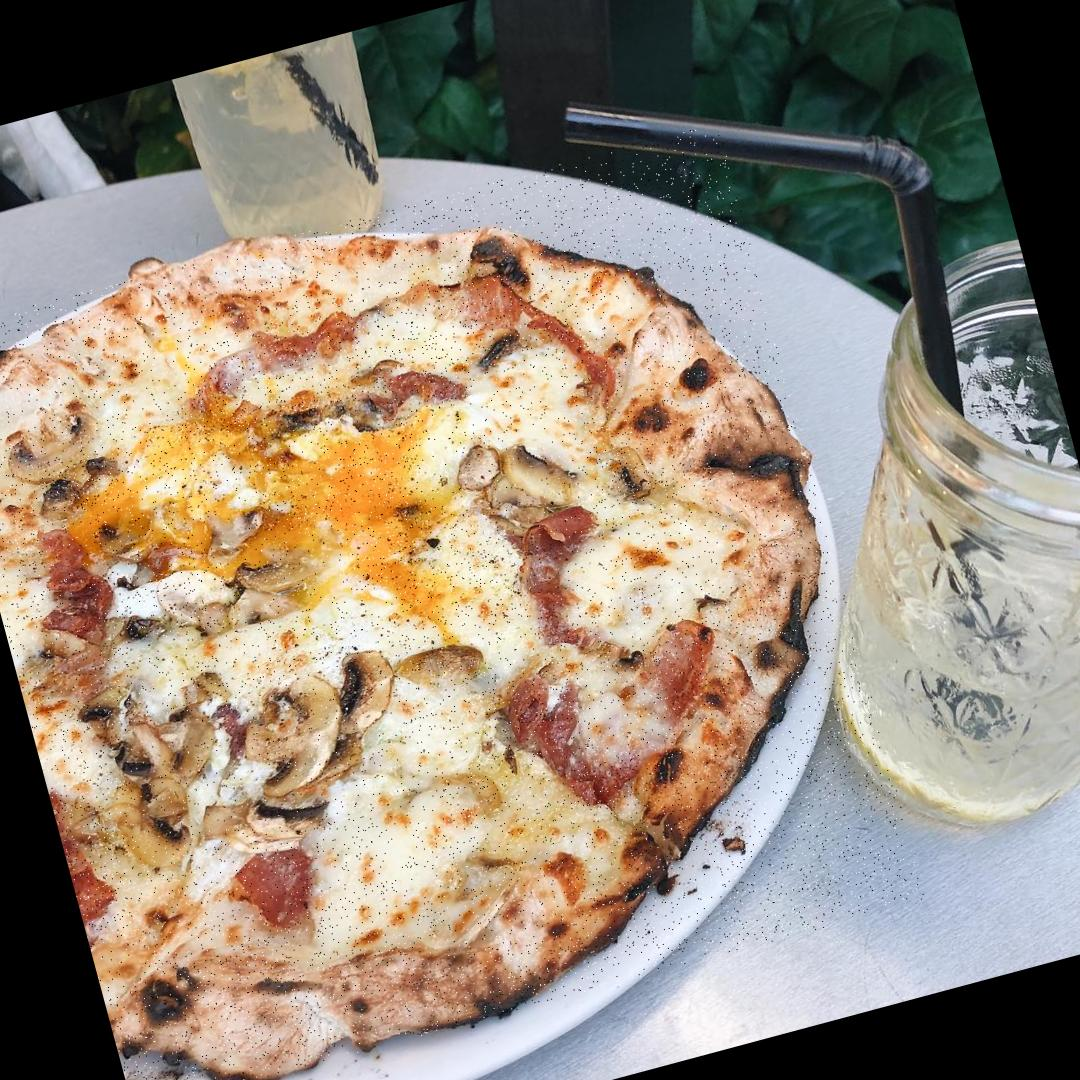Ham: (184, 246, 585, 440), (496, 620, 752, 813), (29, 518, 126, 648), (506, 503, 610, 614), (226, 836, 335, 939), (60, 820, 132, 932)
Mushroom: (108, 656, 420, 852), (454, 420, 579, 536), (230, 532, 346, 628), (0, 411, 112, 494), (276, 391, 392, 460), (392, 638, 490, 706), (160, 564, 238, 637), (38, 456, 121, 518), (596, 442, 662, 512), (208, 505, 276, 556)
Pizza: (0, 121, 926, 1080)
